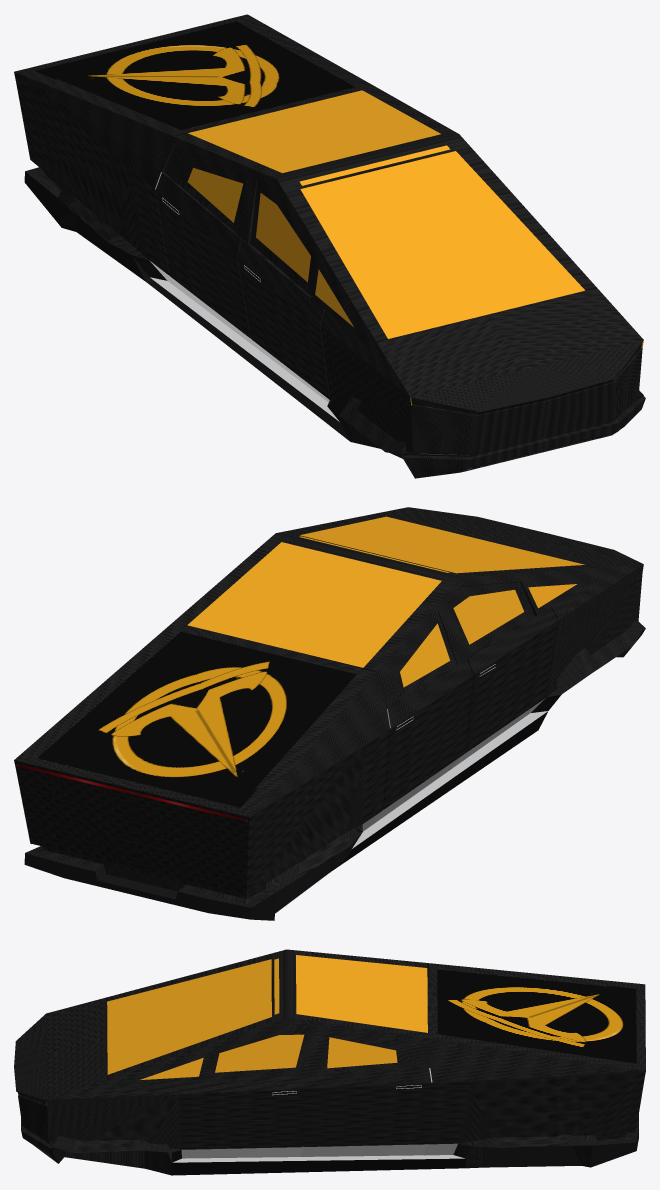
Rendered from TeslaGamesTruck2_modcar.obj.
3 views of the same model, one above another, from view 1: azimuth 30°, elevation 25°; view 2: azimuth 150°, elevation 25°; view 3: azimuth 270°, elevation 25° (orthographic). The views are drawn at different scales.
Parts seen in each view (by area): view 1: Cube.001_Cube.000, Plane; view 2: Cube.001_Cube.000, Plane; view 3: Cube.001_Cube.000, Plane.
Part boxes in pixels (box(x1,y1,x2,y2)): Cube.001_Cube.000: box(14, 14, 645, 478); Plane: box(35, 21, 355, 135); Cube.001_Cube.000: box(14, 507, 645, 920); Plane: box(37, 631, 374, 807); Cube.001_Cube.000: box(14, 949, 645, 1175); Plane: box(427, 963, 636, 1063).
Size of the model in its own units: 7.06 by 5.58 by 20.36.
